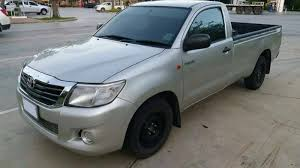pickup: (12, 1, 284, 161)
